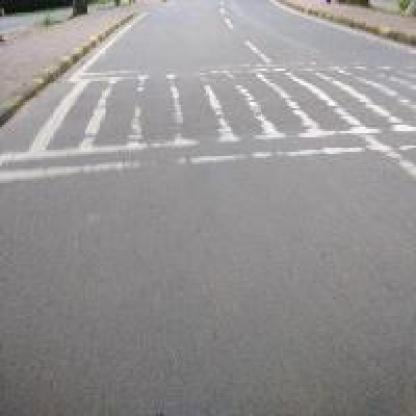Speed Bump: (0, 62, 408, 183)
